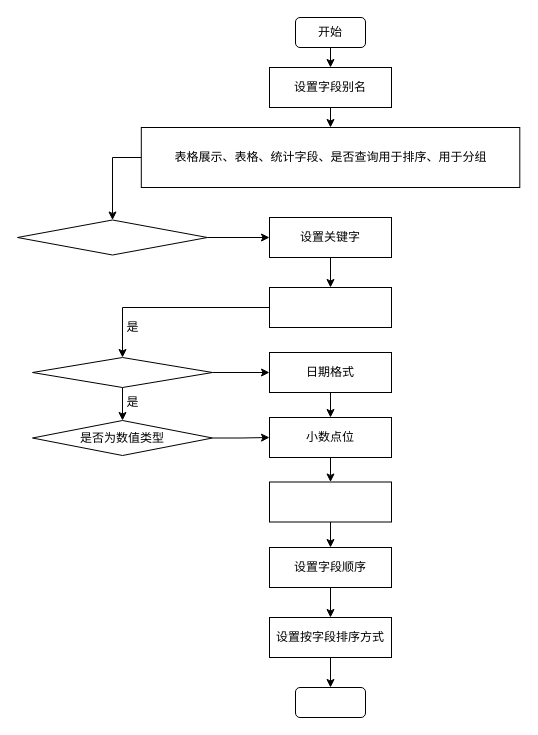
This 538x735 diagram has some shape labels left out. Each missing label, with the box of its shape:
字典值: (268, 286, 392, 328)
是否为字符串: (16, 219, 208, 255)
是否为日期类型: (32, 356, 212, 388)
结束: (294, 686, 366, 718)
设置标签: (268, 481, 392, 522)
